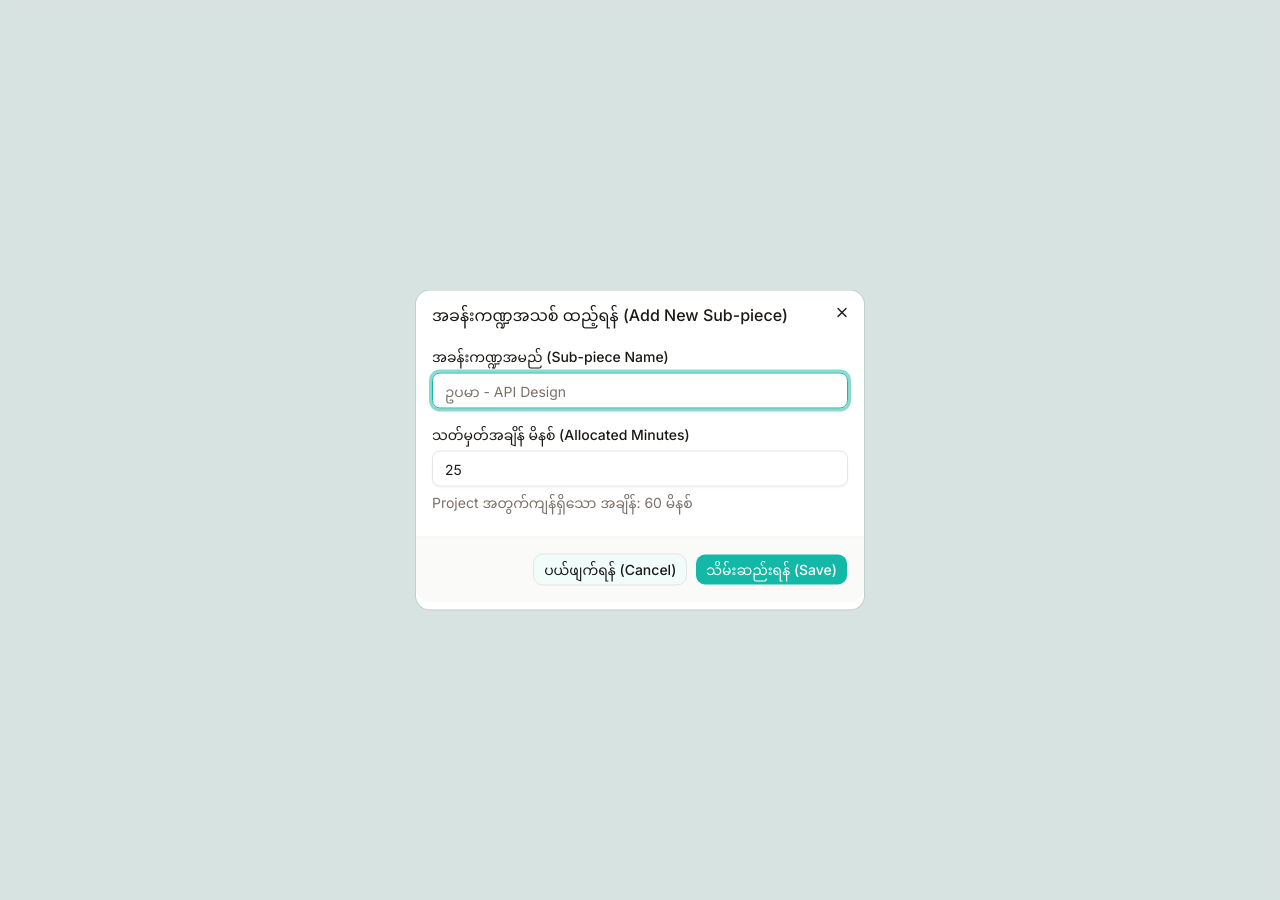
Test: SubPieceForm › shows validation error for invalid allocated minutes
The width and height of the screenshot is (1280, 900).
Type "Valid Name" into the field labelled "အခန်းကဏ္ဍအမည် (Sub-piece Name)" at point(640, 390), box [432, 372, 848, 408]
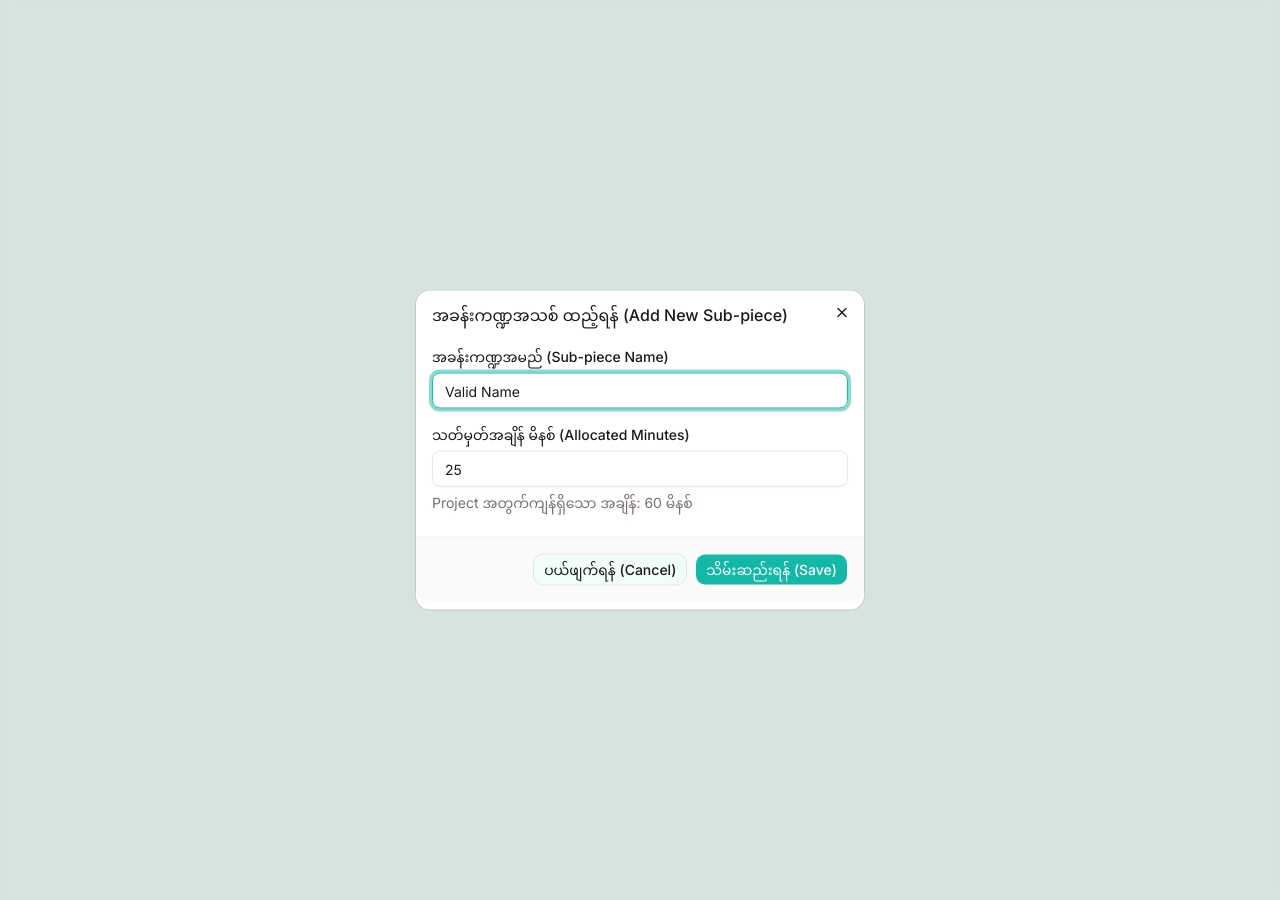
Replace the text in the number field labelled "သတ်မှတ်အချိန် မိနစ် (Allocated Minutes)" with "0" at point(640, 468), box [432, 450, 848, 486]
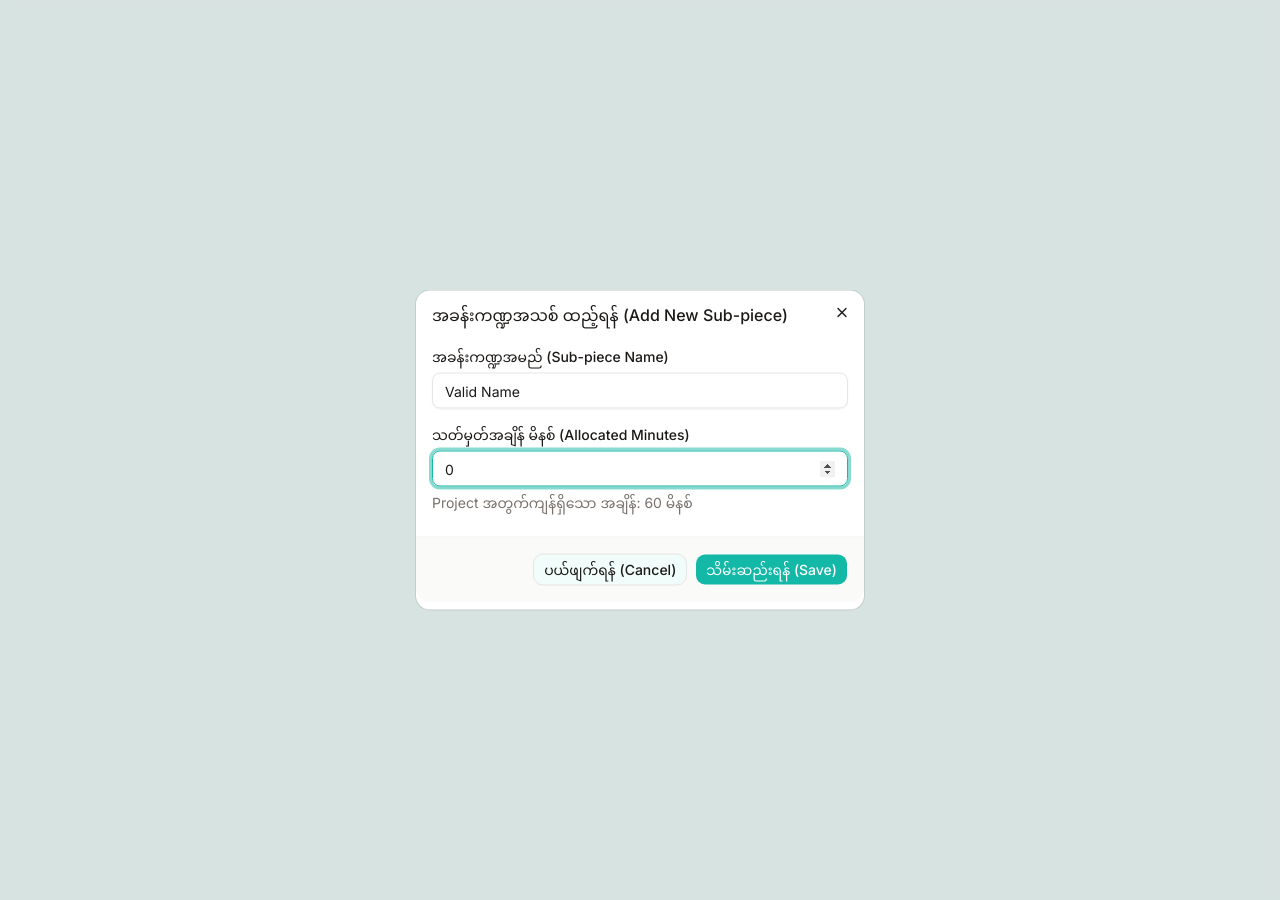
Click the button "သိမ်းဆည်းရန် (Save)" at point(772, 570), box [695, 554, 848, 586]
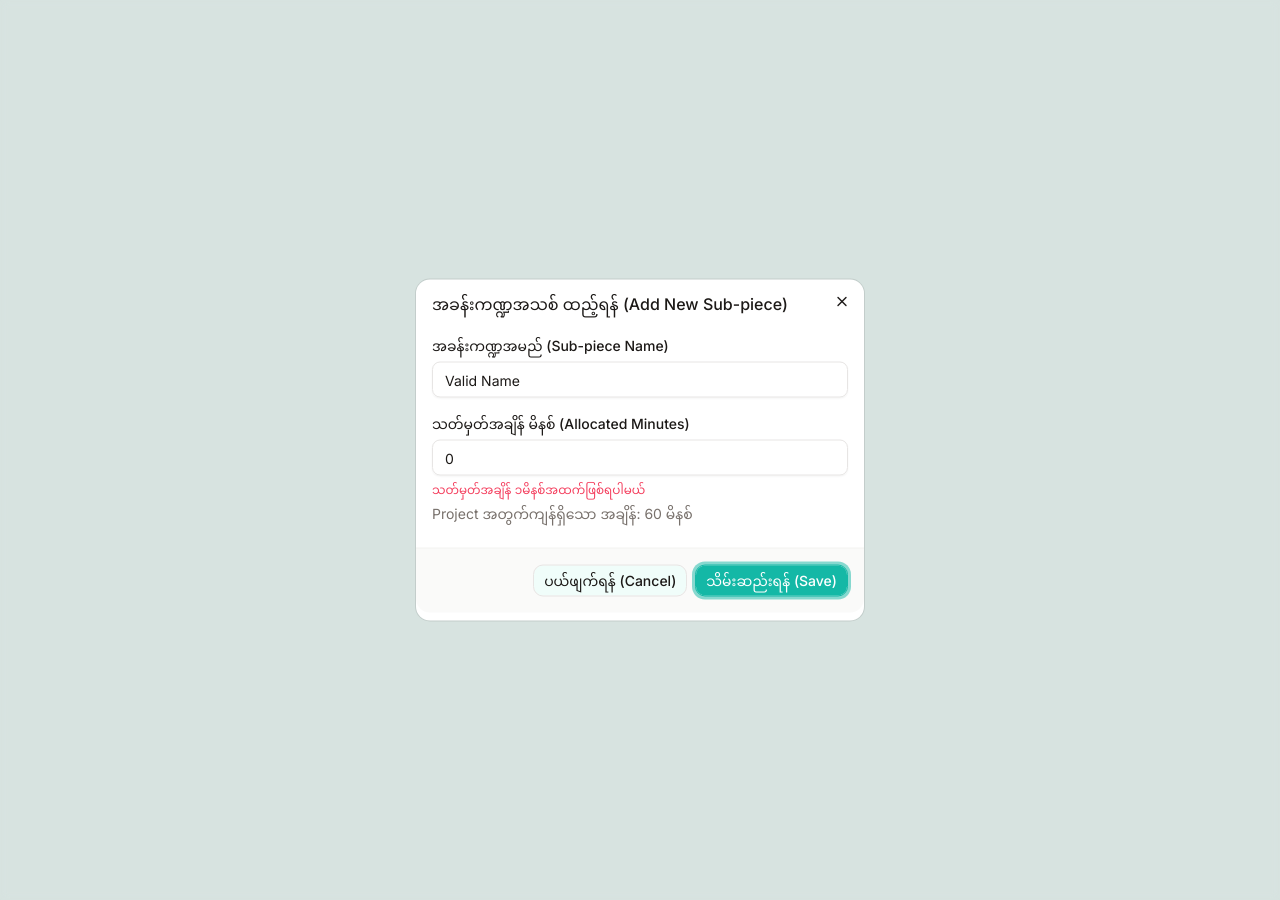
Now the text "သတ်မှတ်အချိန် ၁မိနစ်အထက်ဖြစ်ရပါမယ်" is shown, box [432, 482, 645, 496]
